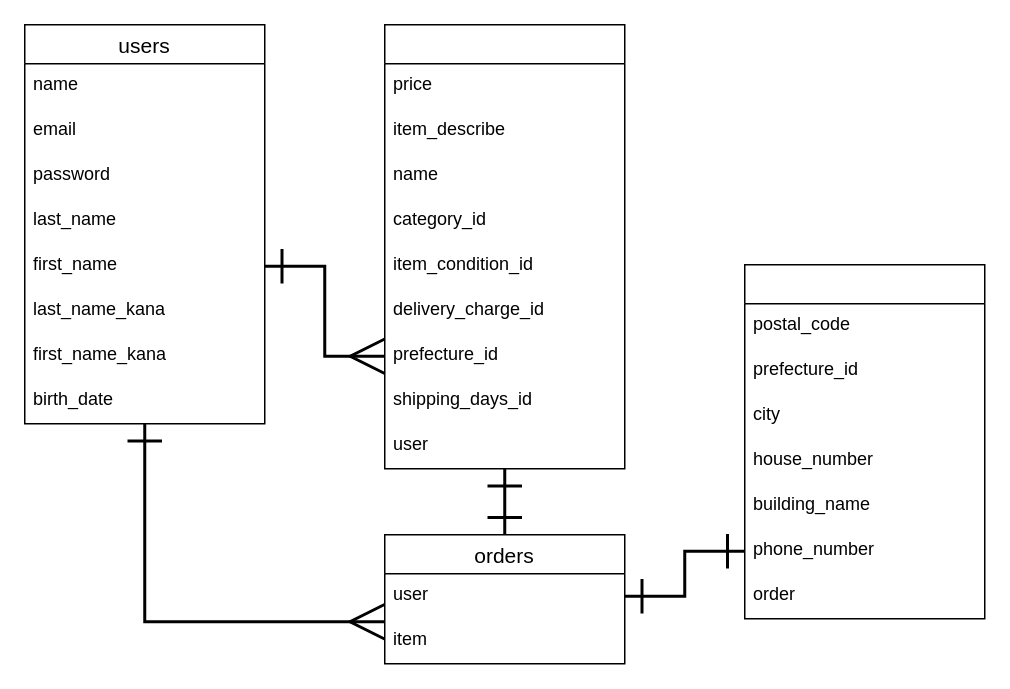
Image size: 1010x689. Some labels were removed from this diagram. The shapes that lost their labels are listed below. From the top down, each one's box as (x1, y1, x2, y2) in pixels, then its label:
(383, 23, 625, 469): items
(743, 263, 985, 619): deliveries
